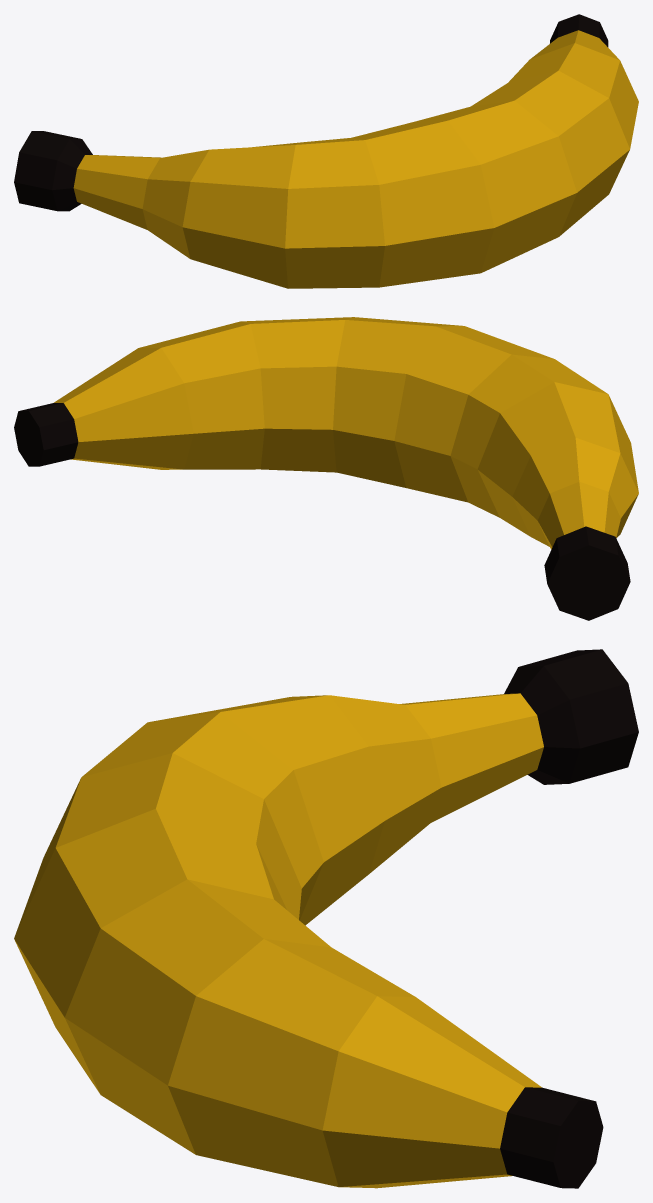
File: Banana.FBX
3 renders of one model, top to bottom at view 1: azimuth 30°, elevation 25°; view 2: azimuth 150°, elevation 25°; view 3: azimuth 270°, elevation 25°, orthographic. The views are drawn at different scales.
Visible parts, largest first — view 1: Banana; view 2: Banana; view 3: Banana.
Boxes of the visible parts, bbox=[...] form: Banana: bbox=[14, 14, 638, 288]; Banana: bbox=[14, 317, 638, 620]; Banana: bbox=[14, 649, 638, 1188].
Size of the model in its own units: 62.04 by 15.43 by 34.4.
